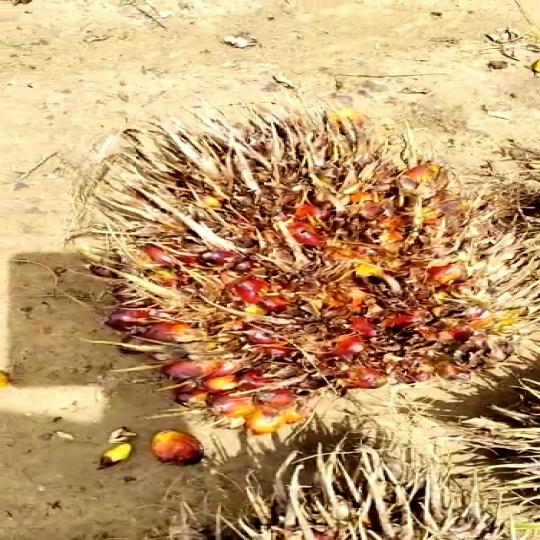terlalu masak: (25, 91, 540, 429)
